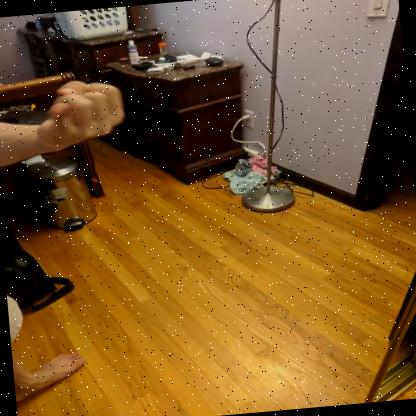J: (36, 80, 126, 152)
